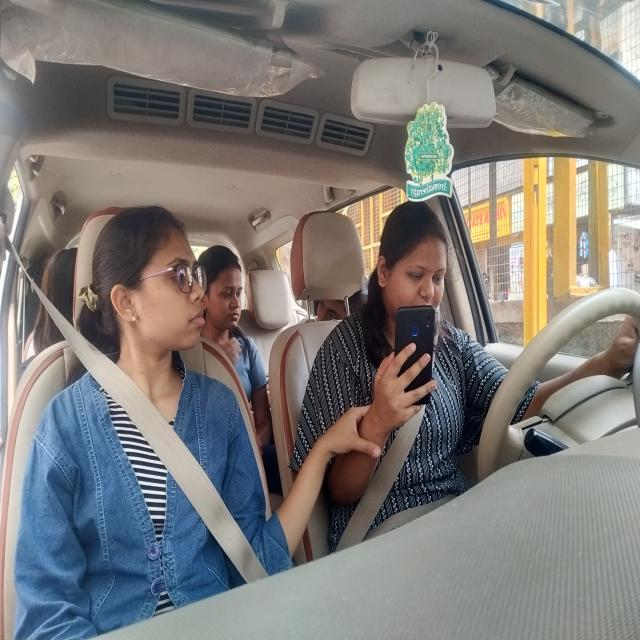mobile: (395, 288, 439, 408)
person: (89, 209, 212, 367), (380, 202, 459, 310), (202, 229, 255, 364)
